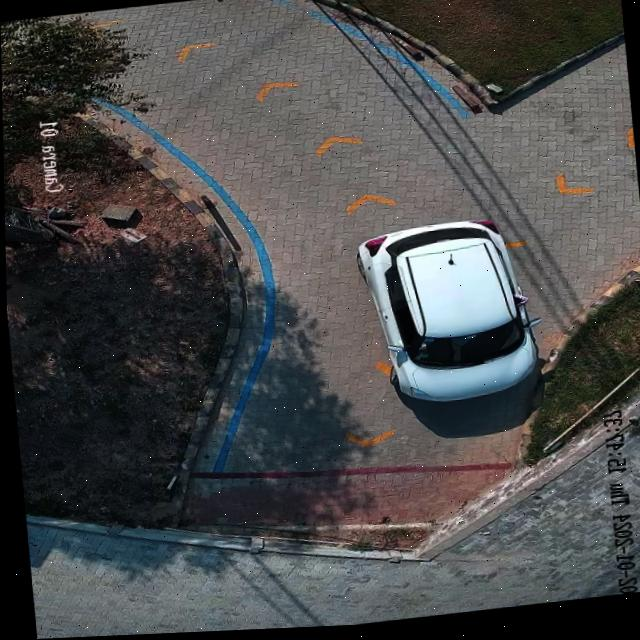car: (358, 223, 534, 407)
